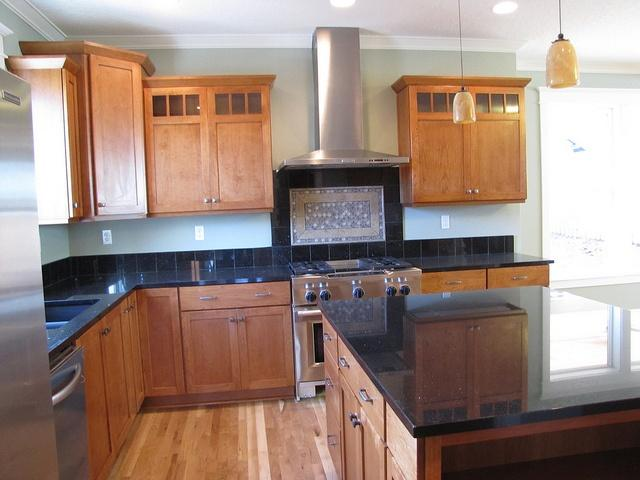Lemari: (141, 81, 272, 214), (406, 83, 528, 203)
